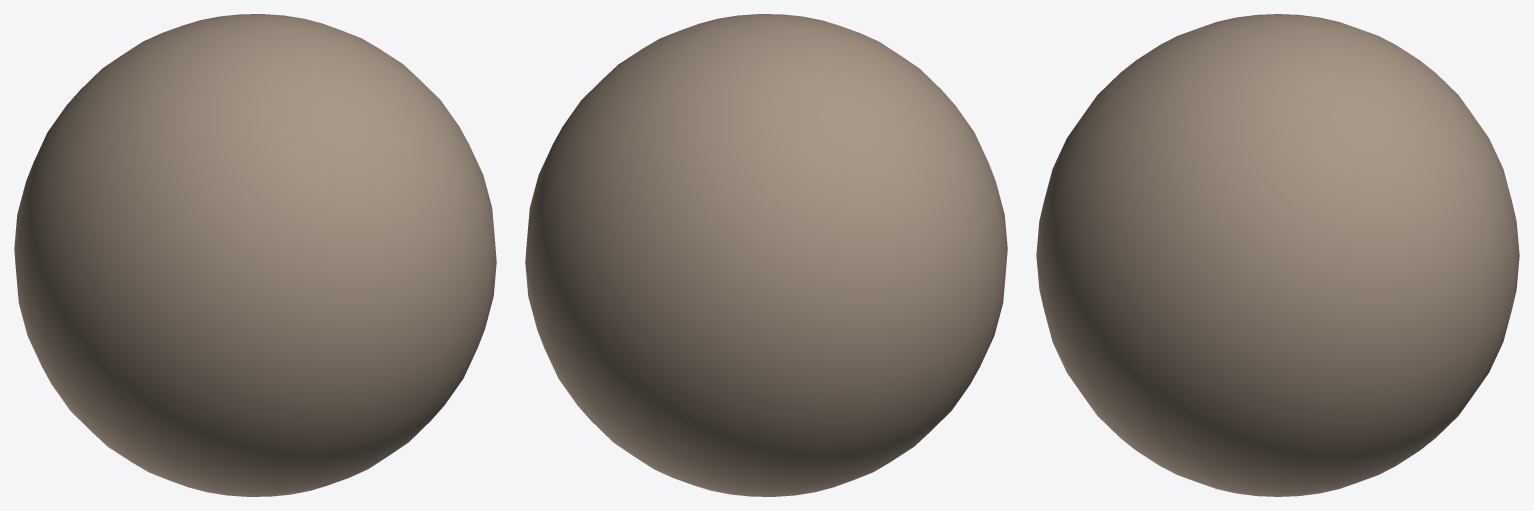
Rendered from mercury.glb.
3 views of the same model, side by side, from view 1: azimuth 30°, elevation 25°; view 2: azimuth 150°, elevation 25°; view 3: azimuth 270°, elevation 25° (orthographic).
Parts seen in each view (by area): view 1: mercury; view 2: mercury; view 3: mercury.
Part boxes in pixels (x1=…): mercury: x1=14, y1=14, x2=496, y2=496; mercury: x1=525, y1=14, x2=1007, y2=496; mercury: x1=1036, y1=14, x2=1519, y2=496.
Bounding box in the file's own units: 2 × 2 × 2.
